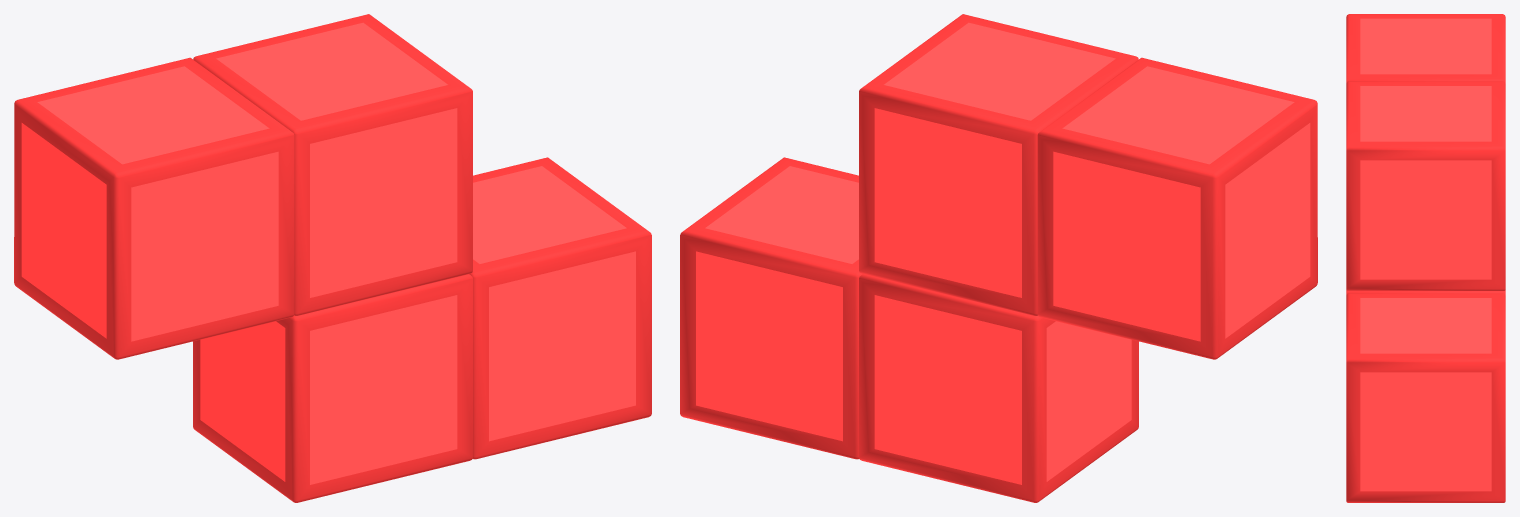
File: Z_block.glb
3 renders of one model, left to right at view 1: azimuth 30°, elevation 25°; view 2: azimuth 150°, elevation 25°; view 3: azimuth 270°, elevation 25°, orthographic. The views are drawn at different scales.
Parts seen in each view (by area): view 1: FuwaSuisei_Tetris03_FuwaSuiseiItems_0; view 2: FuwaSuisei_Tetris03_FuwaSuiseiItems_0; view 3: FuwaSuisei_Tetris03_FuwaSuiseiItems_0.
Boxes of the visible parts, bbox=[...] form: FuwaSuisei_Tetris03_FuwaSuiseiItems_0: bbox=[14, 14, 651, 502]; FuwaSuisei_Tetris03_FuwaSuiseiItems_0: bbox=[680, 14, 1317, 502]; FuwaSuisei_Tetris03_FuwaSuiseiItems_0: bbox=[1346, 14, 1505, 502].
Size of the model in its own units: 1.25 by 0.8309 by 0.4155.
Materials: 1 (1 with a texture image).
